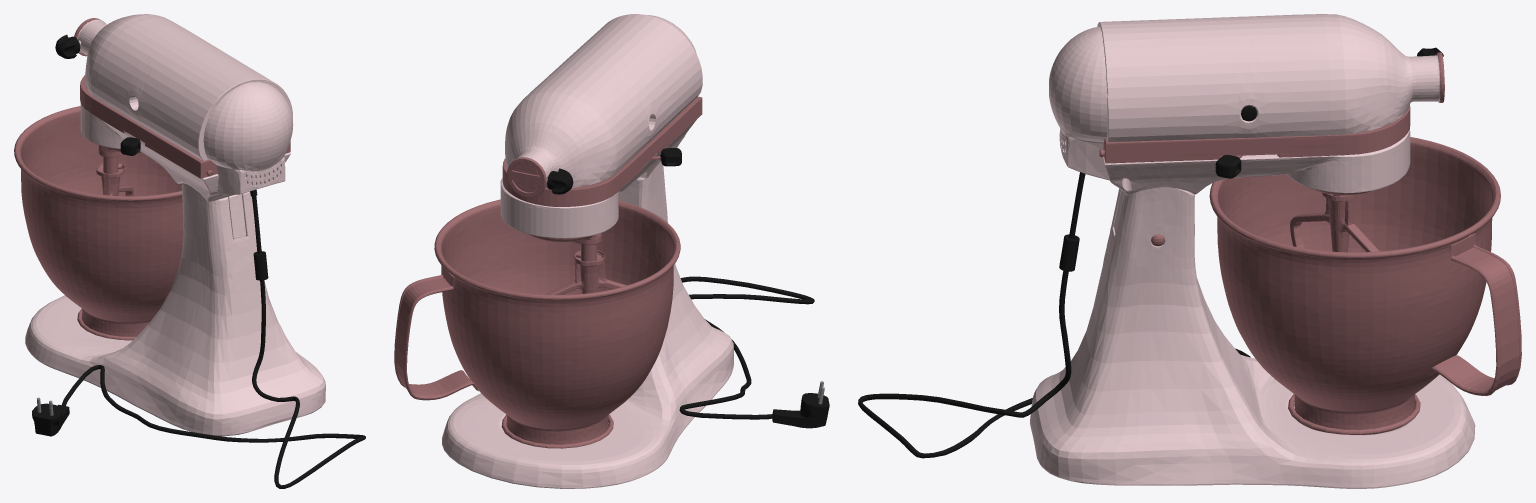
File: mixer-03.glb
3 views of the same model, side by side, from view 1: azimuth 30°, elevation 25°; view 2: azimuth 150°, elevation 25°; view 3: azimuth 270°, elevation 25° (orthographic). The views are drawn at different scales.
Size of the model in its own units: 0.1138 by 0.1288 by 0.1883.
